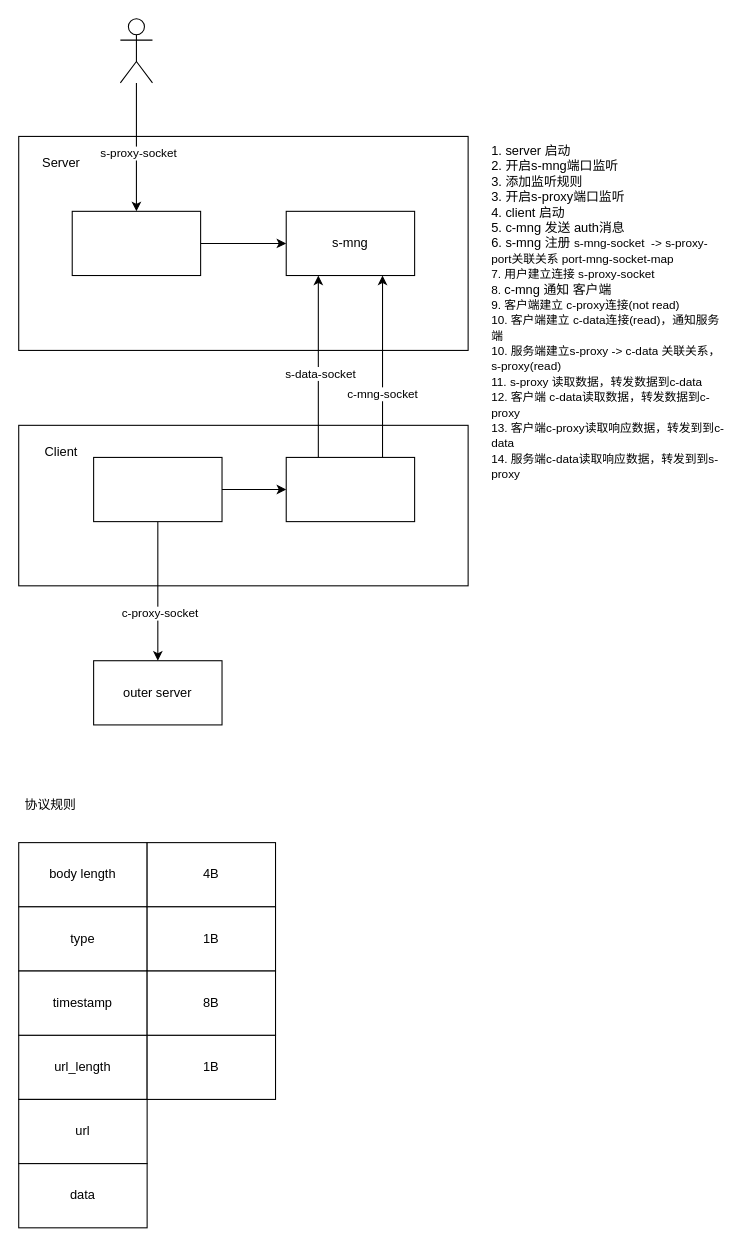
This 744x1247 diagram has some shape labels left out. Here are the shapes that lost their labels. From the top down, the centre of each, then its label:
pixel 136 243: s-proxy
pixel 157 489: c-proxy
pixel 350 489: c-mng
